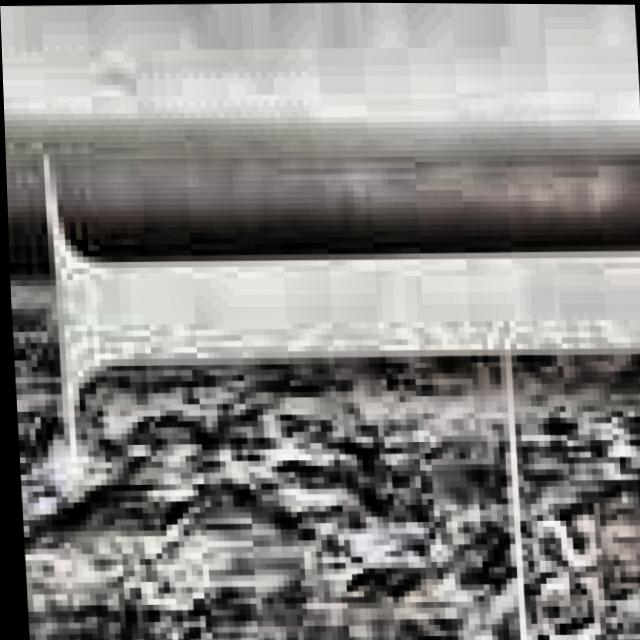paper: (3, 114, 640, 640)
